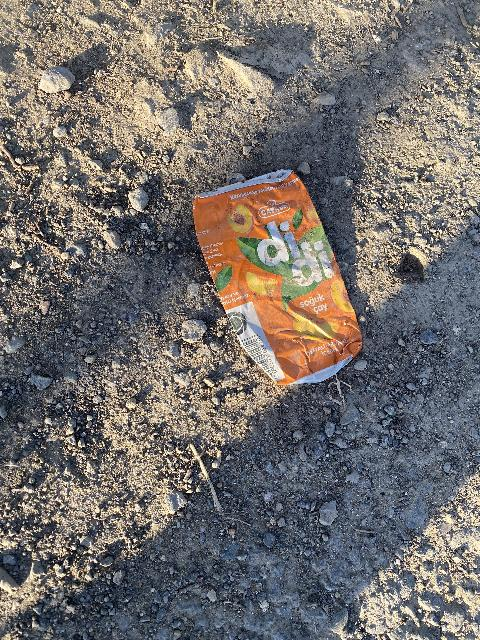Metal: (176, 163, 381, 394)
